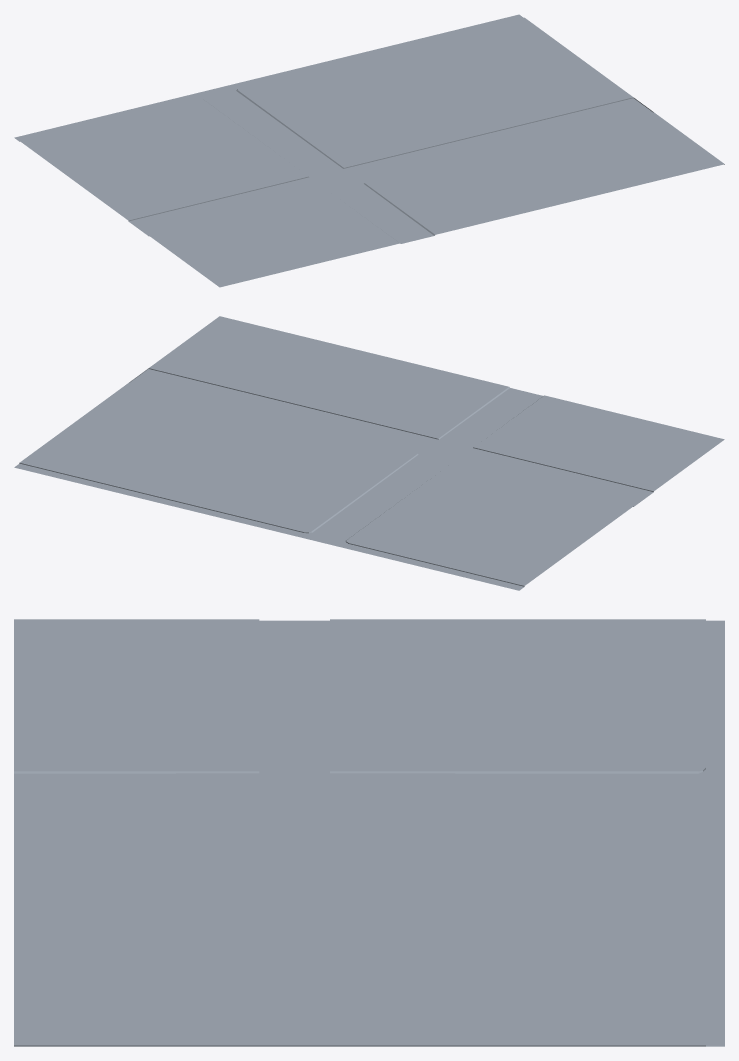
File: city_1_1_proxy_floor.fbx
3 views of the same model, one above another, from view 1: azimuth 30°, elevation 25°; view 2: azimuth 150°, elevation 25°; view 3: azimuth 270°, elevation 25° (orthographic). The views are drawn at different scales.
Parts seen in each view (by area): view 1: city_floor; view 2: city_floor; view 3: city_floor.
Boxes of the visible parts, x1,y1,x2,y2 form: city_floor: [14, 14, 724, 287]; city_floor: [14, 316, 724, 590]; city_floor: [14, 619, 724, 1046].
Bounding box in the file's own units: 8010 × 12.54 × 5650.
